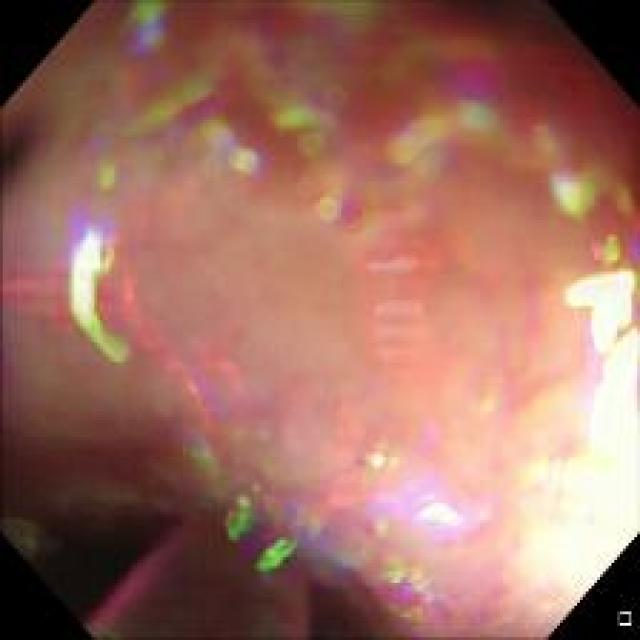color misalignment: (6, 8, 630, 625), (319, 456, 499, 631), (242, 502, 332, 584), (212, 468, 272, 545)
contrast: (6, 498, 420, 634)
instrument: (68, 506, 330, 629)
